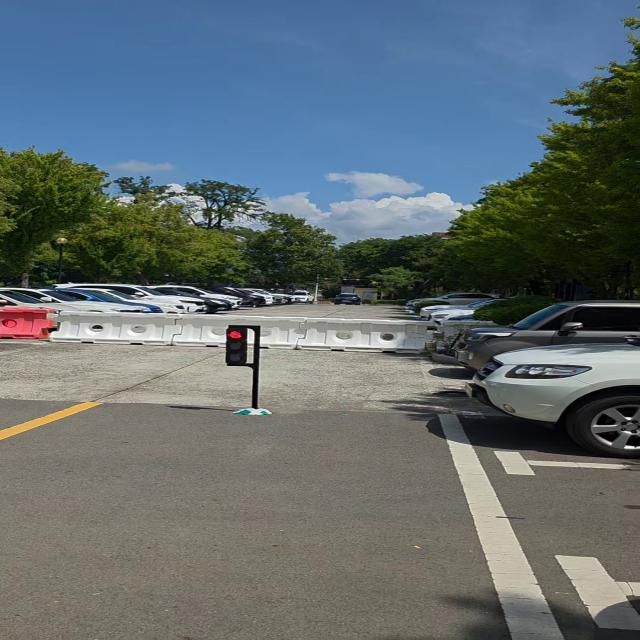red: (222, 326, 252, 368)
